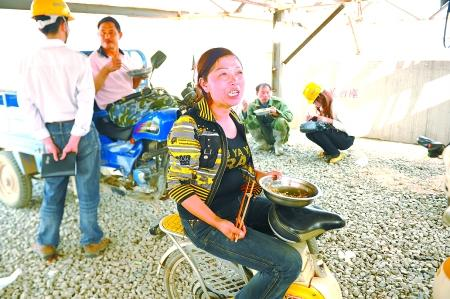boots: (82, 236, 112, 257), (32, 241, 56, 260), (328, 152, 346, 163)
hard-hat: (30, 0, 75, 20), (302, 82, 321, 104)
person: (166, 46, 302, 298), (15, 1, 111, 260), (87, 16, 148, 141), (87, 16, 147, 112), (301, 82, 355, 163), (246, 83, 292, 156)
